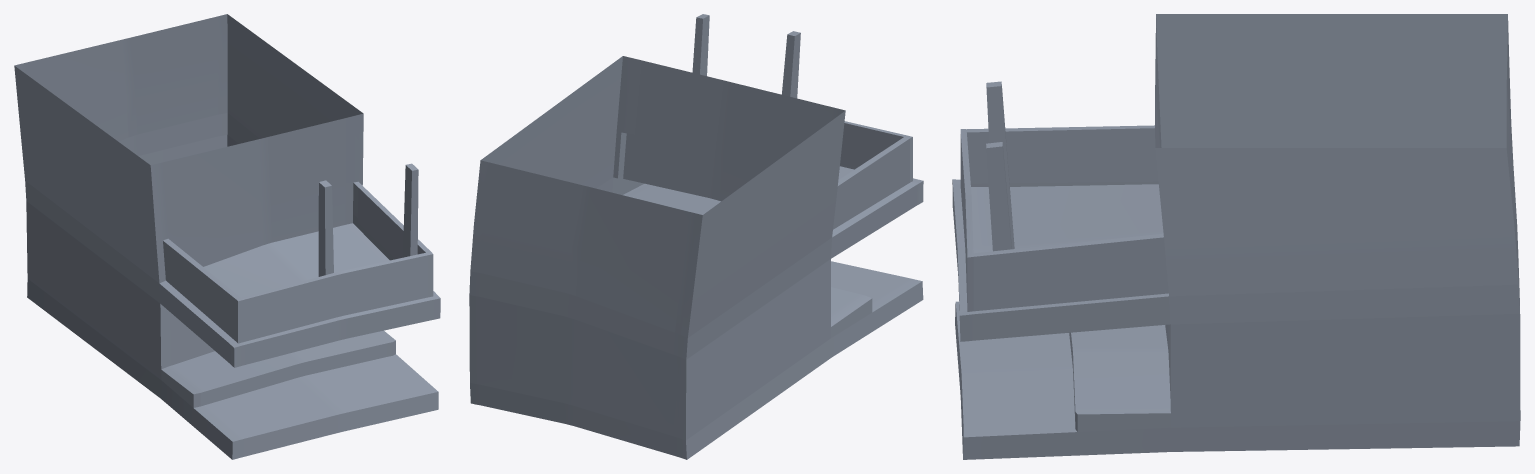
The model's file is building 2.fbx.
The picture shows the model from 3 angles, left to right: view 1: azimuth 30°, elevation 25°; view 2: azimuth 150°, elevation 25°; view 3: azimuth 270°, elevation 25°; orthographic projection. The views are drawn at different scales.
Parts seen in each view (by area): view 1: immeuble_2:immeuble_5; view 2: immeuble_2:immeuble_5; view 3: immeuble_2:immeuble_5.
Part boxes in pixels (x1,y1,x2,y2): immeuble_2:immeuble_5: (14,14,440,459); immeuble_2:immeuble_5: (469,14,923,459); immeuble_2:immeuble_5: (952,14,1520,459).
Size of the model in its own units: 4203 by 4464 by 7353.
